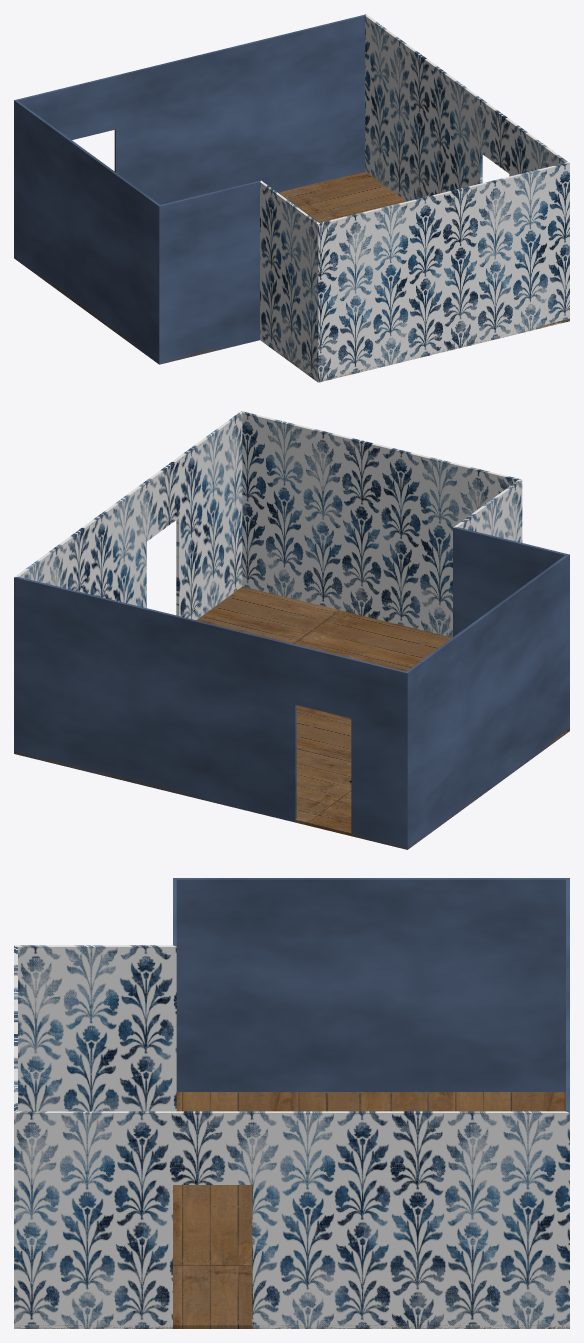
Rendered from living_room.glb.
3 renders of one model, top to bottom at view 1: azimuth 30°, elevation 25°; view 2: azimuth 150°, elevation 25°; view 3: azimuth 270°, elevation 25°, orthographic. The views are drawn at different scales.
Parts seen in each view (by area): view 1: Plane, Plane.001; view 2: Plane, Plane.001; view 3: Plane, Plane.001.
Part boxes in pixels (left/top/right/bottom): Plane: left=14, top=14, right=569, bottom=382; Plane.001: left=14, top=171, right=569, bottom=382; Plane: left=14, top=411, right=569, bottom=849; Plane.001: left=14, top=586, right=569, bottom=849; Plane: left=14, top=878, right=569, bottom=1328; Plane.001: left=15, top=1092, right=569, bottom=1328.
Size of the model in its own units: 7 by 3 by 7.
Materials: 3 (3 with a texture image).
